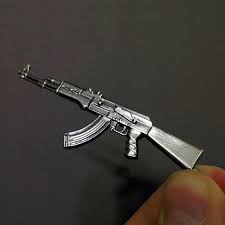gun: (14, 61, 205, 170)
